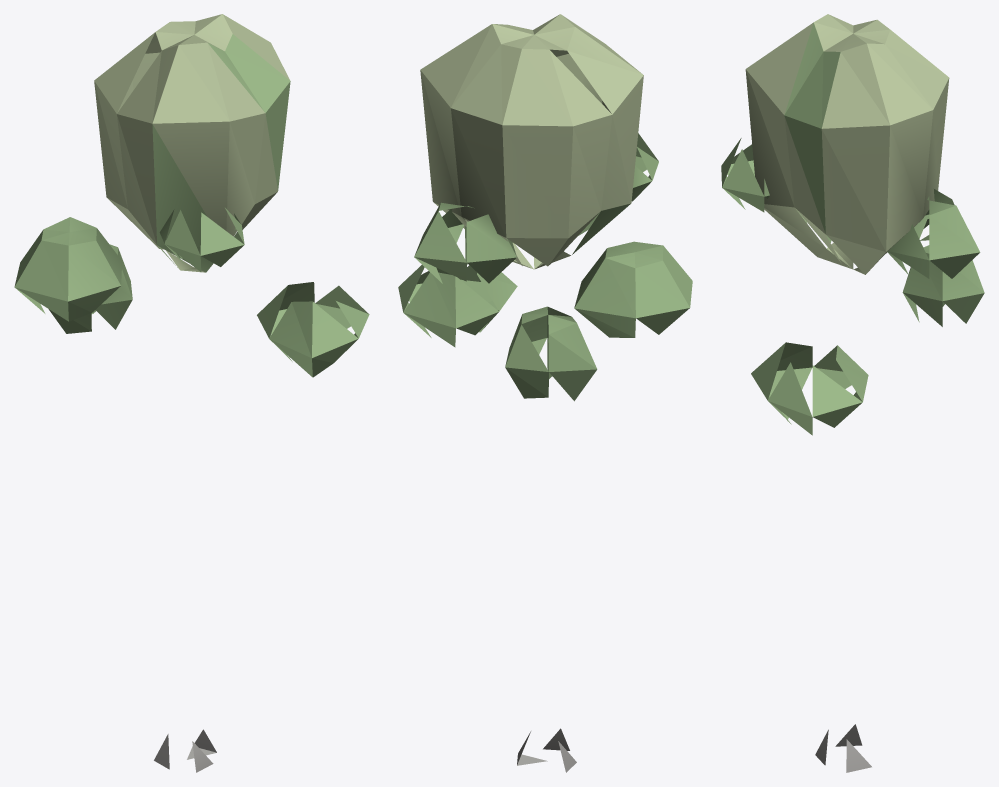
The model's file is birch.lod.glb.
3 views of the same model, side by side, from view 1: azimuth 30°, elevation 25°; view 2: azimuth 150°, elevation 25°; view 3: azimuth 270°, elevation 25° (orthographic).
Visible parts, largest first — view 1: birch; view 2: birch; view 3: birch.
Boxes of the visible parts, x1,y1,x2,y2 form: birch: (14, 14, 369, 772); birch: (398, 14, 692, 772); birch: (721, 14, 984, 772).
Bounding box in the file's own units: 3.01 × 6.49 × 2.1.
